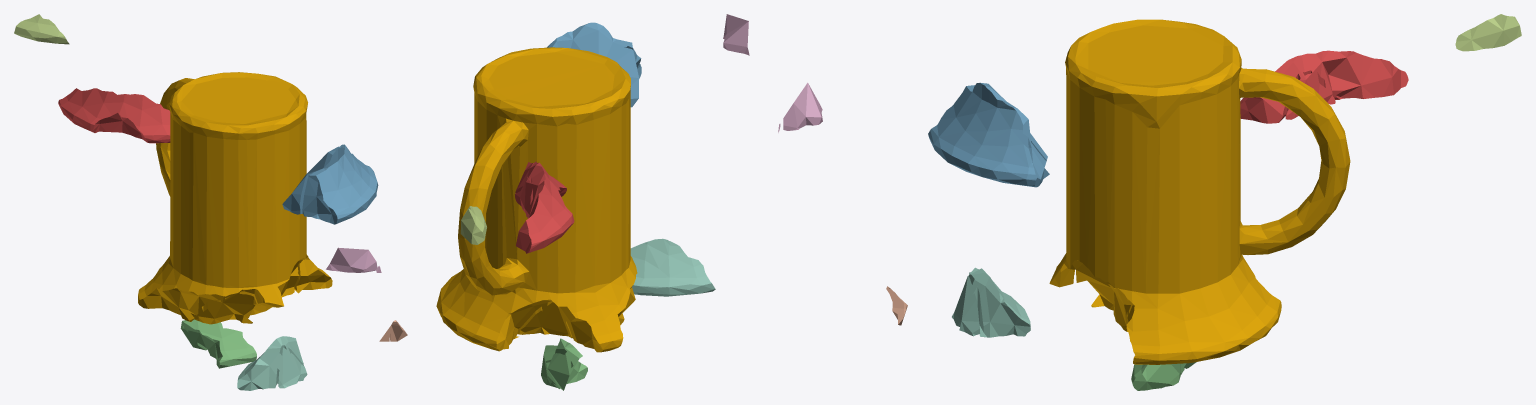
File: mode_19_8pcs_transformed.glb
3 views of the same model, side by side, from view 1: azimuth 30°, elevation 25°; view 2: azimuth 150°, elevation 25°; view 3: azimuth 270°, elevation 25° (orthographic). The views are drawn at different scales.
Parts seen in each view (by area): view 1: piece_0.obj, piece_2.obj, piece_1.obj, piece_4.obj, piece_3.obj, piece_6.obj, piece_5.obj, piece_7.obj; view 2: piece_0.obj, piece_1.obj, piece_4.obj, piece_2.obj, piece_3.obj, piece_6.obj, piece_5.obj; view 3: piece_0.obj, piece_2.obj, piece_1.obj, piece_4.obj, piece_5.obj, piece_3.obj, piece_6.obj.
Boxes of the visible parts, x1,y1,x2,y2 form: piece_0.obj: (138, 72, 332, 324); piece_2.obj: (282, 144, 378, 224); piece_1.obj: (58, 88, 170, 143); piece_4.obj: (237, 336, 307, 390); piece_3.obj: (180, 319, 256, 368); piece_6.obj: (326, 247, 381, 272); piece_5.obj: (14, 14, 69, 44); piece_7.obj: (379, 320, 407, 341); piece_0.obj: (436, 47, 637, 352); piece_1.obj: (515, 161, 574, 253); piece_4.obj: (630, 238, 715, 296); piece_2.obj: (547, 22, 641, 107); piece_3.obj: (541, 338, 587, 390); piece_6.obj: (723, 14, 749, 55); piece_5.obj: (460, 206, 486, 244); piece_0.obj: (1049, 19, 1350, 364); piece_2.obj: (928, 82, 1049, 187); piece_1.obj: (1240, 50, 1408, 123); piece_4.obj: (952, 267, 1030, 337); piece_5.obj: (1455, 14, 1521, 51); piece_3.obj: (1131, 362, 1196, 390); piece_6.obj: (778, 82, 822, 132).
Size of the model in its own units: 0.7907 by 1.12 by 2.28.
